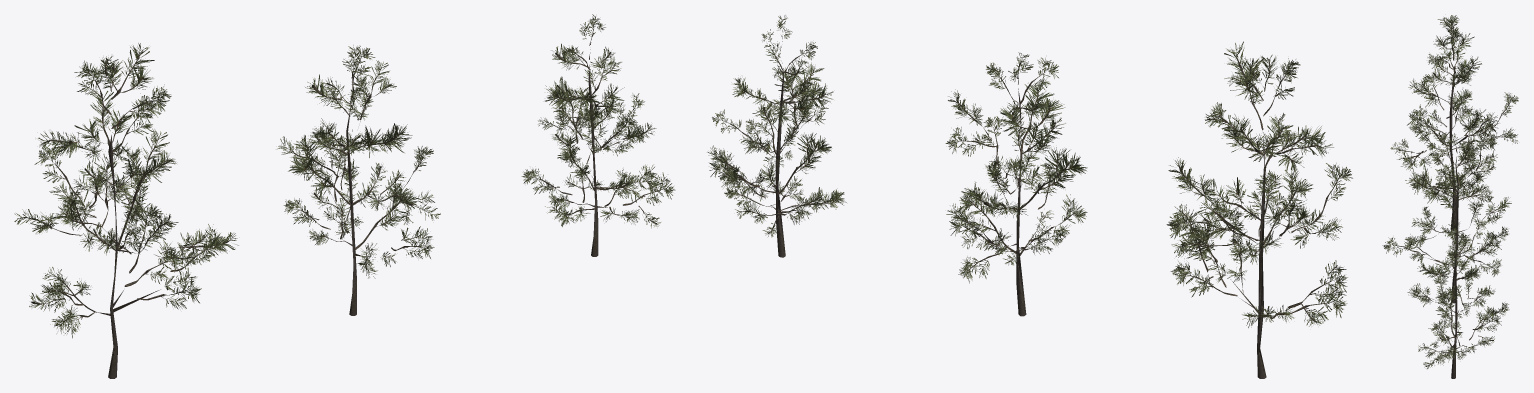
The model's file is pine.glb.
3 renders of one model, left to right at view 1: azimuth 30°, elevation 25°; view 2: azimuth 150°, elevation 25°; view 3: azimuth 270°, elevation 25°, orthographic. The views are drawn at different scales.
Parts seen in each view (by area): view 1: pine_sapling_small_a, pine_sapling_small_b, pine_sapling_small_c; view 2: pine_sapling_small_a, pine_sapling_small_b, pine_sapling_small_c; view 3: pine_sapling_small_a, pine_sapling_small_b, pine_sapling_small_c.
Boxes of the visible parts, box(x1,y1,x2,y2) form: pine_sapling_small_a: box(14, 43, 238, 378); pine_sapling_small_b: box(276, 45, 440, 315); pine_sapling_small_c: box(521, 14, 675, 256); pine_sapling_small_a: box(1166, 41, 1352, 378); pine_sapling_small_b: box(945, 52, 1087, 316); pine_sapling_small_c: box(707, 15, 846, 257); pine_sapling_small_a: box(1390, 15, 1518, 230); pine_sapling_small_b: box(1382, 133, 1511, 303); pine_sapling_small_c: box(1407, 222, 1509, 378).
Bounding box in the file's own units: 2.64 × 1.3 × 0.7703.
Materials: 2 (2 with a texture image).
